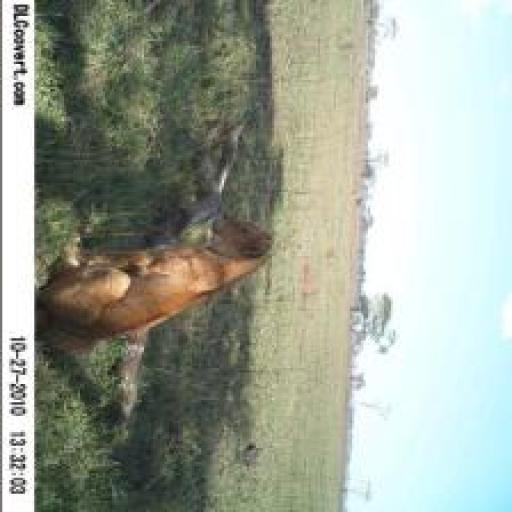lion: (32, 208, 281, 359)
